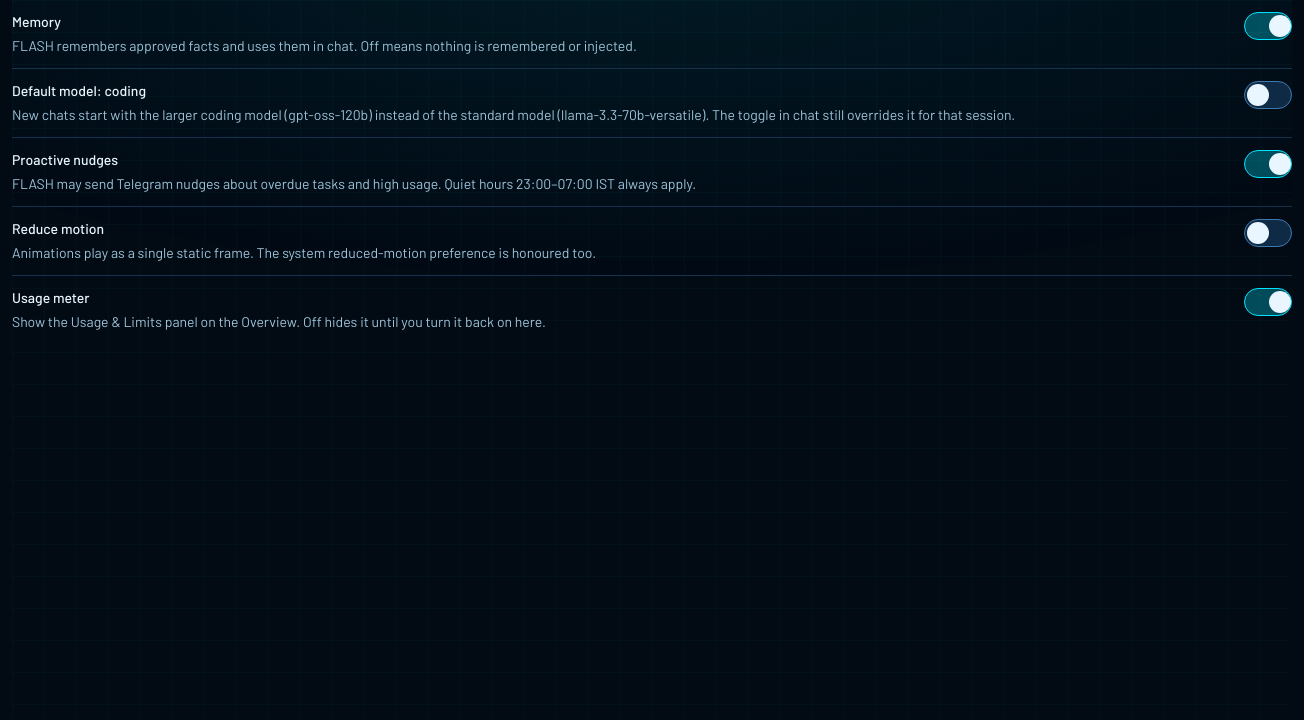
Test case: settings panel (Phase 2) › flipping a switch saves immediately and keeps the new state
What coordinates should you click on to do the following:
click the switch named "Usage meter"
I would click on:
 (1268, 302)
Its box is [1244,288,1292,316].
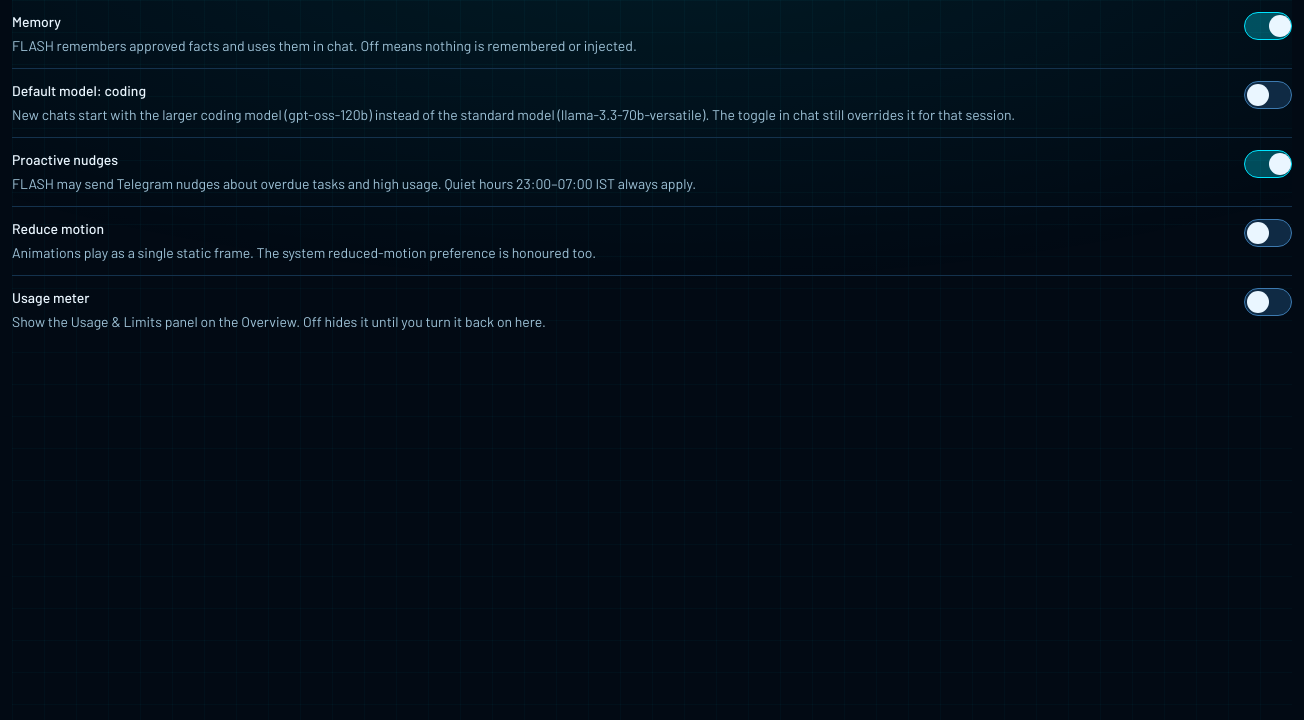
Expected: the switch named "Usage meter" is not checked, [1244,288,1292,316]
